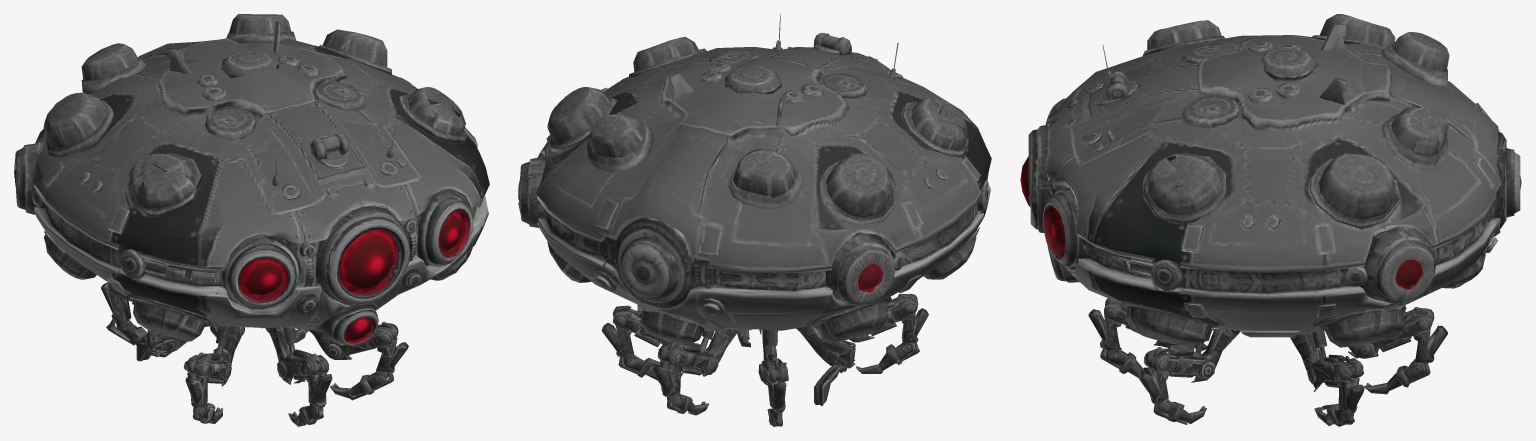
The model's file is drone.glb.
3 renders of one model, left to right at view 1: azimuth 30°, elevation 25°; view 2: azimuth 150°, elevation 25°; view 3: azimuth 270°, elevation 25°, orthographic. The views are drawn at different scales.
Bounding box in the file's own units: 0.8989 × 0.7261 × 0.9561.
Materials: 1 (1 with a texture image).
